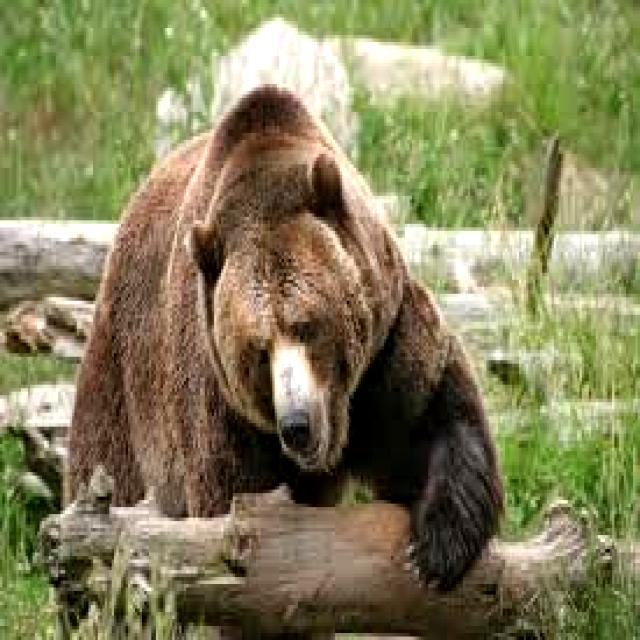bear: (103, 76, 463, 571)
